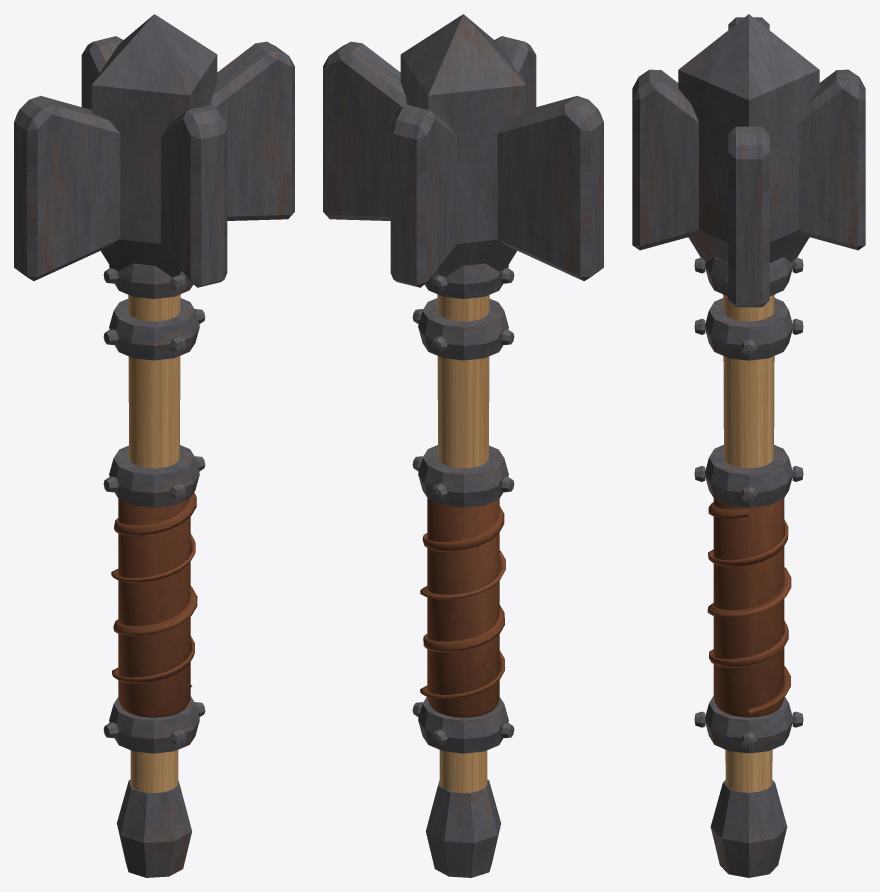
File: war_staff.obj
The picture shows the model from 3 angles, left to right: view 1: azimuth 30°, elevation 25°; view 2: azimuth 150°, elevation 25°; view 3: azimuth 270°, elevation 25°; orthographic projection.
Visible parts, largest first — view 1: F_ThickHammerFlange_2.001_war_staff_iron, E_HeavyFourSidedCore.001_war_staff_iron, B_BrownFightingGrip.001_war_staff_brown, F_ThickHammerFlange_0.001_war_staff_iron, F_ThickHammerFlange_3.001_war_staff_iron, A_StoutAshwoodPole.001_war_staff_ash_wood, G_BluntFacetedIronButt.001_war_staff_iron, C_BoltedIronCollar_1.001_war_staff_iron, C_BoltedIronCollar_2.001_war_staff_iron, B_BrownFightingGrip_ActualRaisedWrap.001_war_staff_brown, C_BoltedIronCollar_0.001_war_staff_iron, C_BoltedIronCollar_3.001_war_staff_iron (+1 smaller); view 2: F_ThickHammerFlange_2.001_war_staff_iron, E_HeavyFourSidedCore.001_war_staff_iron, B_BrownFightingGrip.001_war_staff_brown, F_ThickHammerFlange_0.001_war_staff_iron, F_ThickHammerFlange_1.001_war_staff_iron, A_StoutAshwoodPole.001_war_staff_ash_wood, G_BluntFacetedIronButt.001_war_staff_iron, C_BoltedIronCollar_1.001_war_staff_iron, C_BoltedIronCollar_2.001_war_staff_iron, B_BrownFightingGrip_ActualRaisedWrap.001_war_staff_brown, C_BoltedIronCollar_0.001_war_staff_iron, C_BoltedIronCollar_3.001_war_staff_iron (+1 smaller); view 3: E_HeavyFourSidedCore.001_war_staff_iron, B_BrownFightingGrip.001_war_staff_brown, F_ThickHammerFlange_1.001_war_staff_iron, F_ThickHammerFlange_3.001_war_staff_iron, A_StoutAshwoodPole.001_war_staff_ash_wood, F_ThickHammerFlange_0.001_war_staff_iron, G_BluntFacetedIronButt.001_war_staff_iron, C_BoltedIronCollar_1.001_war_staff_iron, C_BoltedIronCollar_2.001_war_staff_iron, B_BrownFightingGrip_ActualRaisedWrap.001_war_staff_brown, C_BoltedIronCollar_0.001_war_staff_iron, C_BoltedIronCollar_3.001_war_staff_iron.
Part boxes in pixels (x1,y1,x2,y2): F_ThickHammerFlange_2.001_war_staff_iron: (14, 96, 120, 280); E_HeavyFourSidedCore.001_war_staff_iron: (91, 14, 217, 277); B_BrownFightingGrip.001_war_staff_brown: (118, 499, 190, 717); F_ThickHammerFlange_0.001_war_staff_iron: (210, 41, 294, 220); F_ThickHammerFlange_3.001_war_staff_iron: (161, 105, 227, 287); A_StoutAshwoodPole.001_war_staff_ash_wood: (128, 294, 180, 792); G_BluntFacetedIronButt.001_war_staff_iron: (117, 779, 191, 877); C_BoltedIronCollar_1.001_war_staff_iron: (109, 445, 199, 507); C_BoltedIronCollar_2.001_war_staff_iron: (109, 298, 199, 360); B_BrownFightingGrip_ActualRaisedWrap.001_war_staff_brown: (111, 492, 197, 687); C_BoltedIronCollar_0.001_war_staff_iron: (109, 696, 199, 753); C_BoltedIronCollar_3.001_war_staff_iron: (109, 263, 193, 298); F_ThickHammerFlange_2.001_war_staff_iron: (497, 96, 603, 280); E_HeavyFourSidedCore.001_war_staff_iron: (400, 14, 526, 277); B_BrownFightingGrip.001_war_staff_brown: (427, 498, 499, 717); F_ThickHammerFlange_0.001_war_staff_iron: (323, 41, 407, 220); F_ThickHammerFlange_1.001_war_staff_iron: (390, 105, 456, 287); A_StoutAshwoodPole.001_war_staff_ash_wood: (437, 294, 489, 792); G_BluntFacetedIronButt.001_war_staff_iron: (426, 779, 500, 877); C_BoltedIronCollar_1.001_war_staff_iron: (418, 445, 508, 507); C_BoltedIronCollar_2.001_war_staff_iron: (418, 298, 508, 360); B_BrownFightingGrip_ActualRaisedWrap.001_war_staff_brown: (420, 506, 505, 698); C_BoltedIronCollar_0.001_war_staff_iron: (418, 697, 508, 753); C_BoltedIronCollar_3.001_war_staff_iron: (424, 263, 508, 298); E_HeavyFourSidedCore.001_war_staff_iron: (678, 14, 819, 262); B_BrownFightingGrip.001_war_staff_brown: (713, 498, 784, 717); F_ThickHammerFlange_1.001_war_staff_iron: (799, 69, 865, 250); F_ThickHammerFlange_3.001_war_staff_iron: (632, 69, 698, 250); A_StoutAshwoodPole.001_war_staff_ash_wood: (723, 294, 774, 792); F_ThickHammerFlange_0.001_war_staff_iron: (728, 126, 769, 307); G_BluntFacetedIronButt.001_war_staff_iron: (710, 780, 787, 877); C_BoltedIronCollar_1.001_war_staff_iron: (705, 445, 792, 507); C_BoltedIronCollar_2.001_war_staff_iron: (705, 298, 792, 360); B_BrownFightingGrip_ActualRaisedWrap.001_war_staff_brown: (707, 502, 791, 714); C_BoltedIronCollar_0.001_war_staff_iron: (705, 696, 792, 753); C_BoltedIronCollar_3.001_war_staff_iron: (705, 257, 792, 296).
Size of the model in its own units: 1.96 by 5.96 by 1.48.
